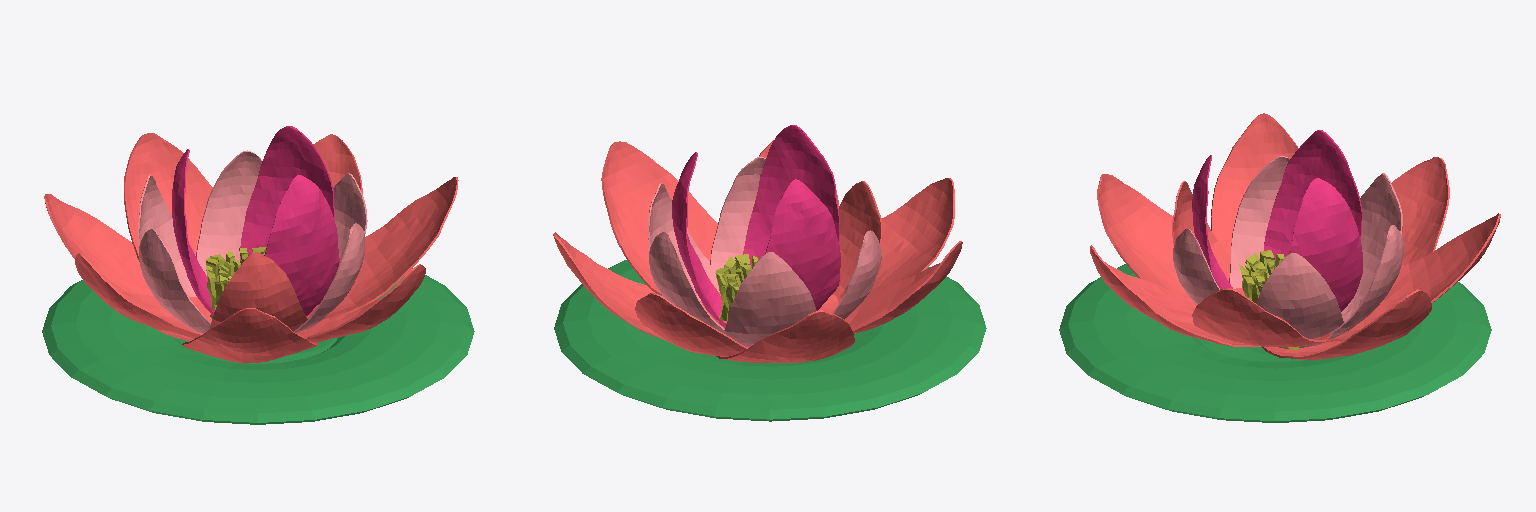
File: lotus.obj
3 renders of one model, left to right at view 1: azimuth 30°, elevation 25°; view 2: azimuth 150°, elevation 25°; view 3: azimuth 270°, elevation 25°, orthographic.
Visible parts, largest first — view 1: Torus001, lotu_petal_13, lotu_petal_02, lotu_petal_14, lotu_petal_00, lotu_petal_06, lotu_petal_04, lotu_petal_11, lotu_petal_08, lotu_petal_09, lotu_petal_05, lotu_petal_03 (+7 smaller); view 2: Torus001, lotu_petal_02, lotu_petal_15, lotu_petal_13, lotu_petal_04, lotu_petal_10, lotu_petal_06, lotu_petal_05, lotu_petal_00, lotu_petal_01, lotu_petal_07, lotu_petal_08 (+5 smaller); view 3: Torus001, lotu_petal_14, lotu_petal_04, lotu_petal_15, lotu_petal_05, lotu_petal_12, lotu_petal_00, lotu_petal_06, lotu_petal_02, lotu_petal_03, lotu_petal_01, lotu_petal_09 (+7 smaller).
Part boxes in pixels (bbox=[...]): Torus001: bbox=[42, 268, 474, 424]; lotu_petal_13: bbox=[264, 175, 339, 315]; lotu_petal_02: bbox=[306, 177, 458, 323]; lotu_petal_14: bbox=[240, 126, 334, 260]; lotu_petal_00: bbox=[124, 133, 212, 261]; lotu_petal_06: bbox=[44, 194, 193, 341]; lotu_petal_04: bbox=[182, 308, 317, 363]; lotu_petal_11: bbox=[196, 150, 261, 275]; lotu_petal_08: bbox=[209, 252, 307, 331]; lotu_petal_09: bbox=[139, 229, 210, 333]; lotu_petal_05: bbox=[75, 253, 211, 338]; lotu_petal_03: bbox=[297, 264, 425, 342]; Torus001: bbox=[554, 260, 986, 421]; lotu_petal_02: bbox=[601, 141, 726, 323]; lotu_petal_15: bbox=[765, 179, 840, 310]; lotu_petal_13: bbox=[743, 125, 839, 266]; lotu_petal_04: bbox=[855, 178, 954, 333]; lotu_petal_10: bbox=[724, 252, 816, 346]; lotu_petal_06: bbox=[716, 310, 854, 362]; lotu_petal_05: bbox=[818, 241, 962, 333]; lotu_petal_00: bbox=[635, 293, 748, 356]; lotu_petal_01: bbox=[553, 232, 701, 353]; lotu_petal_07: bbox=[710, 157, 765, 291]; lotu_petal_08: bbox=[832, 181, 882, 302]; Torus001: bbox=[1059, 264, 1491, 422]; lotu_petal_14: bbox=[1290, 178, 1362, 311]; lotu_petal_04: bbox=[1097, 174, 1187, 294]; lotu_petal_15: bbox=[1264, 130, 1362, 269]; lotu_petal_05: bbox=[1211, 113, 1298, 295]; lotu_petal_12: bbox=[1256, 253, 1343, 346]; lotu_petal_00: bbox=[1326, 213, 1500, 341]; lotu_petal_06: bbox=[1391, 157, 1449, 265]; lotu_petal_02: bbox=[1192, 288, 1332, 346]; lotu_petal_03: bbox=[1090, 245, 1260, 346]; lotu_petal_01: bbox=[1262, 289, 1431, 359]; lotu_petal_09: bbox=[1229, 156, 1289, 288].
Bounding box in the file's own units: 5.67 × 3.01 × 5.79.